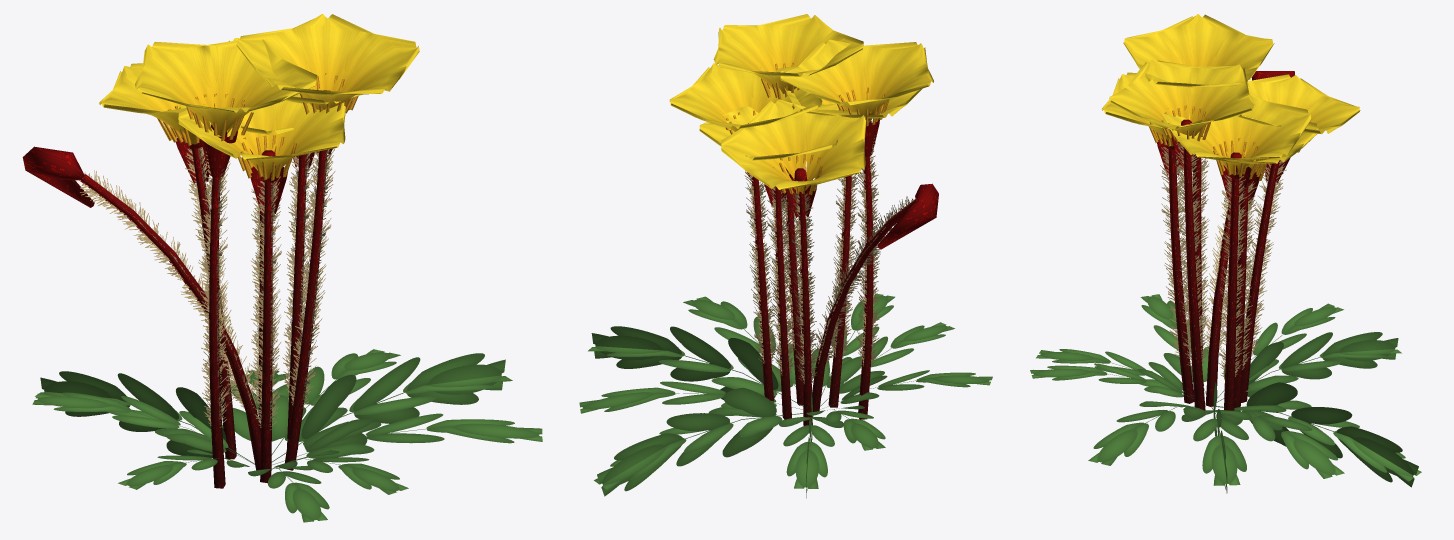
Rendered from arctic_poppy_v01.glb.
The picture shows the model from 3 angles, left to right: view 1: azimuth 30°, elevation 25°; view 2: azimuth 150°, elevation 25°; view 3: azimuth 270°, elevation 25°; orthographic projection. The views are drawn at different scales.
Parts seen in each view (by area): view 1: arctic_poppy_v01; view 2: arctic_poppy_v01; view 3: arctic_poppy_v01.
Part boxes in pixels (x1,y1,x2,y2): arctic_poppy_v01: (22,14,542,522); arctic_poppy_v01: (579,14,992,498); arctic_poppy_v01: (1030,14,1421,493).
Size of the model in its own units: 0.1594 by 0.168 by 0.1565.
Materials: 5 (5 with a texture image).
